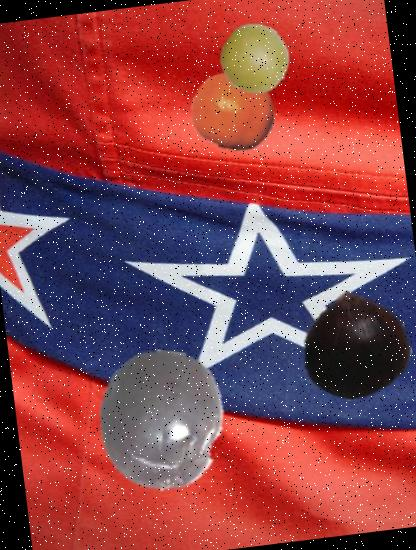Chestnut: (295, 284, 416, 407)
Clementine: (186, 66, 280, 160)
Grape: (217, 21, 295, 98)
Passion: (80, 342, 240, 502)
